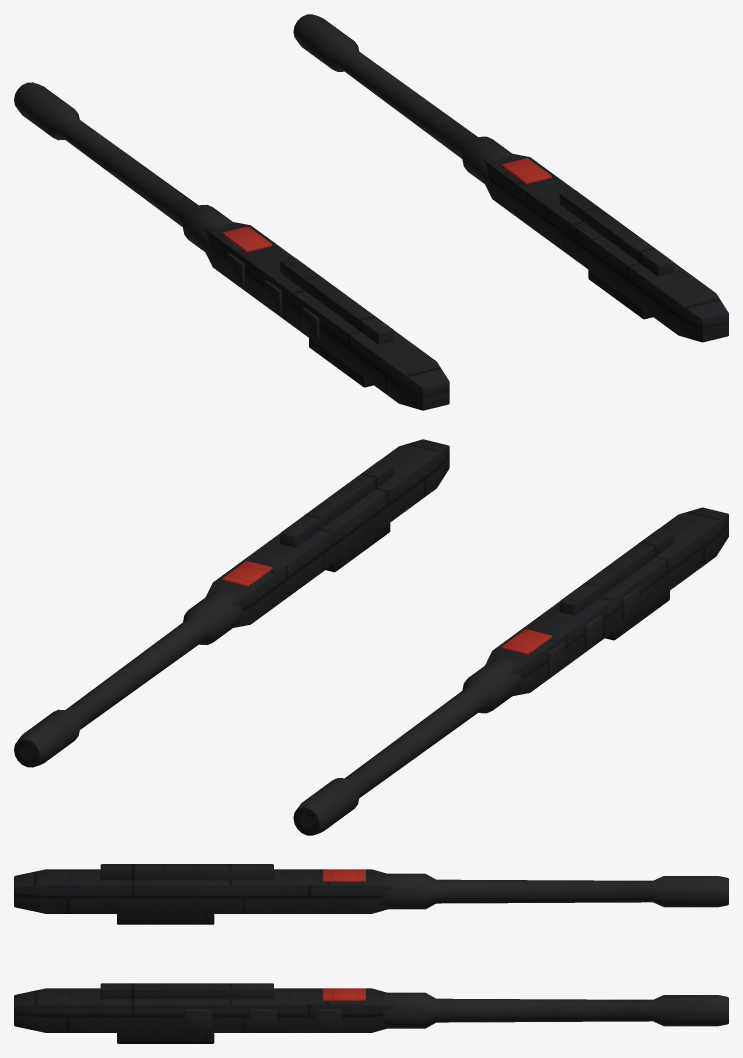
The model's file is Armas2.fbx.
3 renders of one model, top to bottom at view 1: azimuth 30°, elevation 25°; view 2: azimuth 150°, elevation 25°; view 3: azimuth 270°, elevation 25°, orthographic. The views are drawn at different scales.
Visible parts, largest first — view 1: Armas2; view 2: Armas2; view 3: Armas2.
Boxes of the visible parts, x1,y1,x2,y2 form: Armas2: (14, 14, 728, 410); Armas2: (14, 439, 728, 835); Armas2: (14, 864, 728, 1043).
Bounding box in the file's own units: 602 × 107 × 1320.
